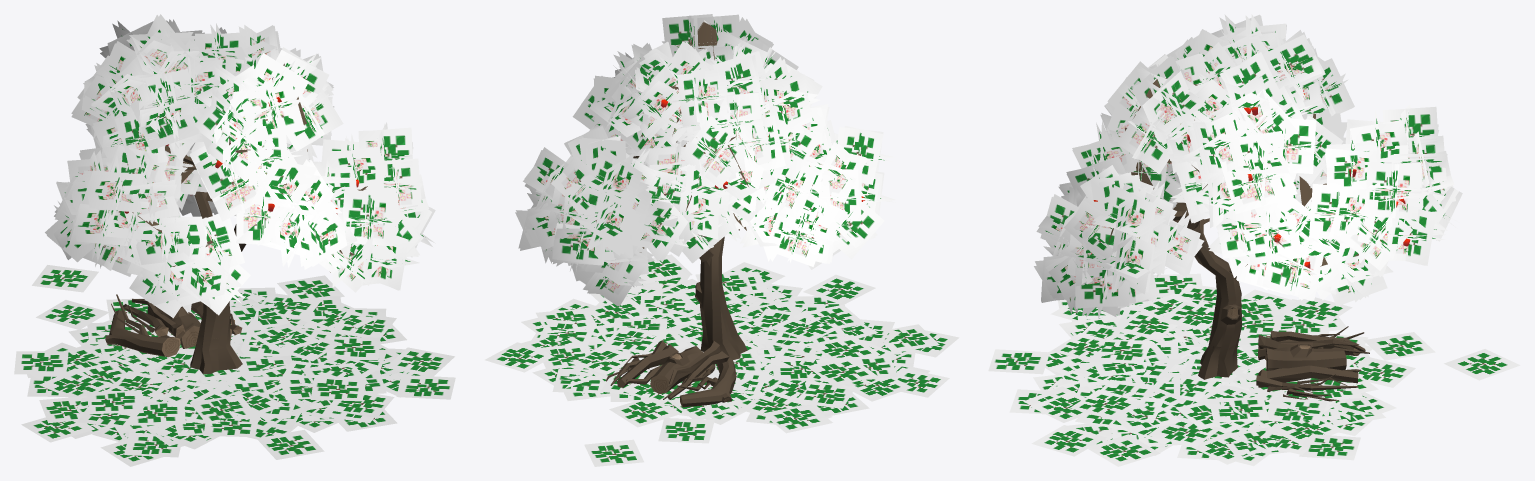
The model's file is PT_Apple_Tree_01.fbx.
The picture shows the model from 3 angles, left to right: view 1: azimuth 30°, elevation 25°; view 2: azimuth 150°, elevation 25°; view 3: azimuth 270°, elevation 25°; orthographic projection. The views are drawn at different scales.
Parts seen in each view (by area): view 1: PT_Apple_Tree_01_Fallen_Leaves_LOD0, PT_Apple_Tree_01_Flowers_LOD0, PT_Apple_Tree_01_Leaves_LOD0, PT_Apple_Tree_01_Logs_LOD0, PT_Apple_Tree_01_Trunk_LOD0, PT_Apple_Tree_01_Branches_LOD0; view 2: PT_Apple_Tree_01_Fallen_Leaves_LOD0, PT_Apple_Tree_01_Leaves_LOD0, PT_Apple_Tree_01_Flowers_LOD0, PT_Apple_Tree_01_Logs_LOD0, PT_Apple_Tree_01_Trunk_LOD0, PT_Apple_Tree_01_Branches_LOD0; view 3: PT_Apple_Tree_01_Fallen_Leaves_LOD0, PT_Apple_Tree_01_Leaves_LOD0, PT_Apple_Tree_01_Flowers_LOD0, PT_Apple_Tree_01_Logs_LOD0, PT_Apple_Tree_01_Trunk_LOD0, PT_Apple_Tree_01_Branches_LOD0.
Part boxes in pixels (bbox=[...]): PT_Apple_Tree_01_Fallen_Leaves_LOD0: bbox=[14, 265, 455, 466]; PT_Apple_Tree_01_Flowers_LOD0: bbox=[47, 15, 432, 316]; PT_Apple_Tree_01_Leaves_LOD0: bbox=[45, 14, 435, 318]; PT_Apple_Tree_01_Logs_LOD0: bbox=[105, 294, 242, 356]; PT_Apple_Tree_01_Trunk_LOD0: bbox=[181, 155, 343, 374]; PT_Apple_Tree_01_Branches_LOD0: bbox=[112, 63, 367, 272]; PT_Apple_Tree_01_Fallen_Leaves_LOD0: bbox=[485, 254, 959, 466]; PT_Apple_Tree_01_Leaves_LOD0: bbox=[515, 14, 895, 306]; PT_Apple_Tree_01_Flowers_LOD0: bbox=[516, 14, 895, 306]; PT_Apple_Tree_01_Logs_LOD0: bbox=[606, 340, 736, 407]; PT_Apple_Tree_01_Trunk_LOD0: bbox=[695, 229, 747, 359]; PT_Apple_Tree_01_Branches_LOD0: bbox=[633, 20, 775, 252]; PT_Apple_Tree_01_Fallen_Leaves_LOD0: bbox=[988, 273, 1520, 466]; PT_Apple_Tree_01_Leaves_LOD0: bbox=[1034, 14, 1457, 315]; PT_Apple_Tree_01_Flowers_LOD0: bbox=[1035, 14, 1462, 318]; PT_Apple_Tree_01_Logs_LOD0: bbox=[1256, 326, 1369, 401]; PT_Apple_Tree_01_Trunk_LOD0: bbox=[1173, 202, 1242, 379]; PT_Apple_Tree_01_Branches_LOD0: bbox=[1108, 77, 1358, 266].
Size of the model in its own units: 781 by 658 by 901.
